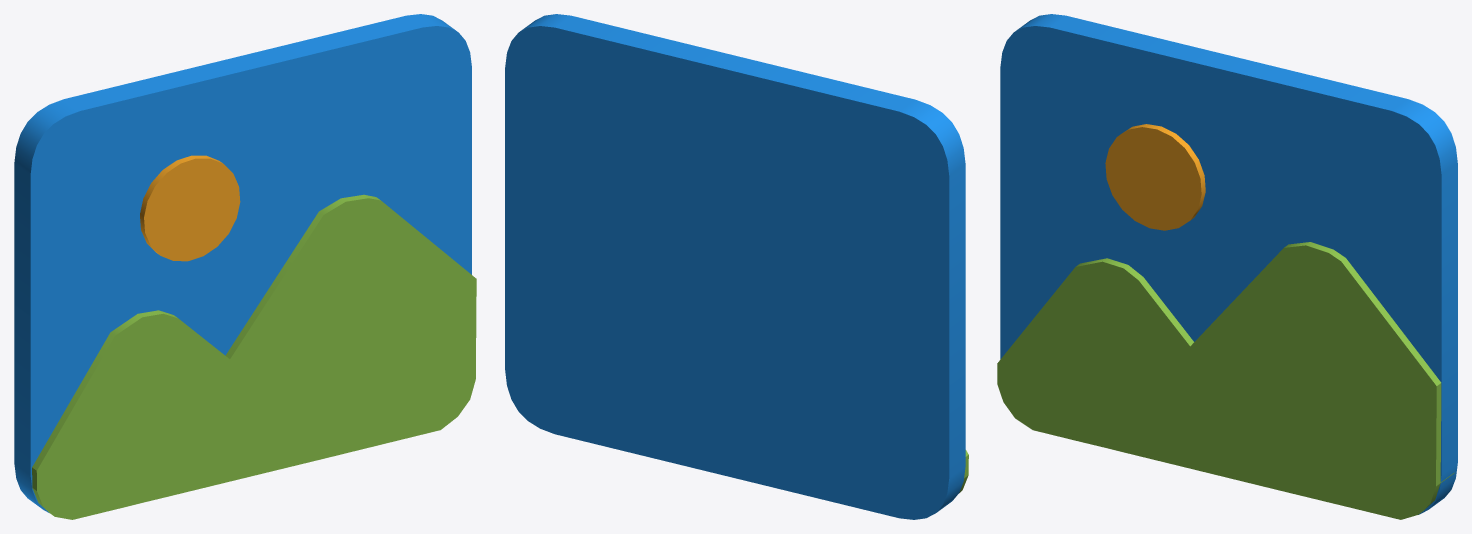
Rendered from image_3d.glb.
3 views of the same model, side by side, from view 1: azimuth 30°, elevation 25°; view 2: azimuth 150°, elevation 25°; view 3: azimuth 330°, elevation 25° (orthographic).
Parts seen in each view (by area): view 1: Box001; view 2: Box001; view 3: Box001.
Part boxes in pixels (x1=…): Box001: x1=14, y1=14, x2=476, y2=519; Box001: x1=505, y1=14, x2=968, y2=519; Box001: x1=997, y1=14, x2=1457, y2=519.
Size of the model in its own units: 0.1225 by 0.1072 by 0.0101.
1 material, 1 textured.
